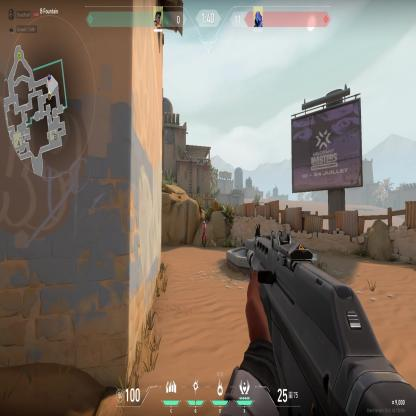enemy: (201, 218, 208, 248)
